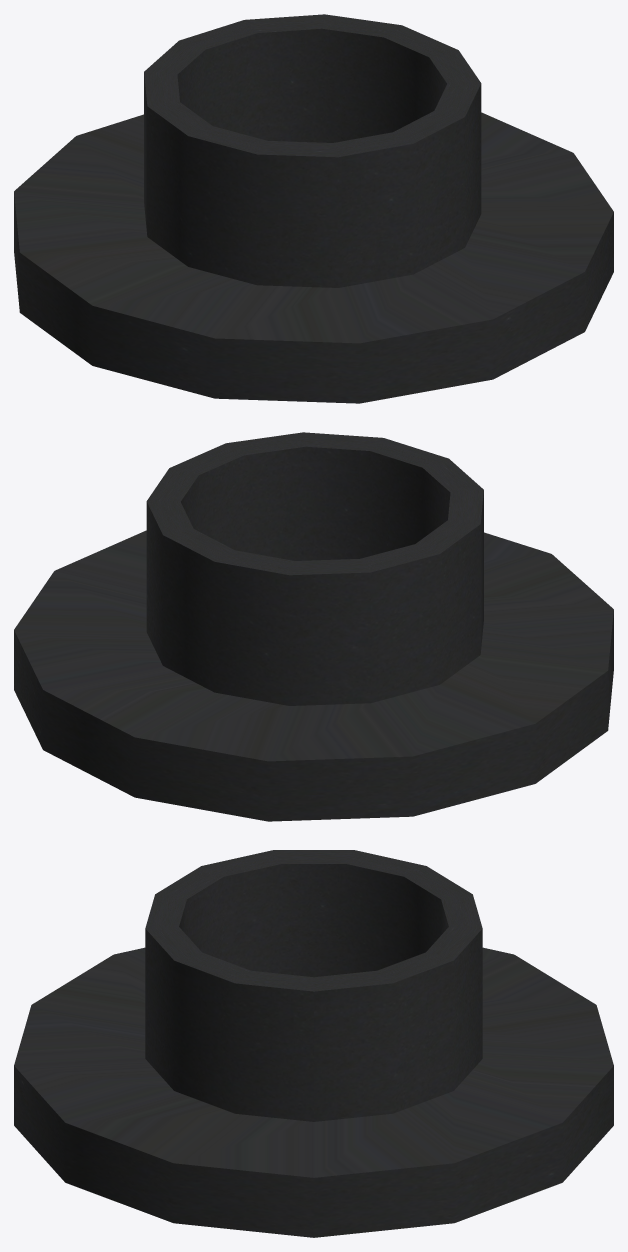
Rendered from Knob.dae.
3 views of the same model, one above another, from view 1: azimuth 30°, elevation 25°; view 2: azimuth 150°, elevation 25°; view 3: azimuth 270°, elevation 25° (orthographic).
Visible parts, largest first — view 1: Knob; view 2: Knob; view 3: Knob.
Boxes of the visible parts, left/top/right/bottom form: Knob: left=14, top=14, right=613, bottom=403; Knob: left=14, top=432, right=613, bottom=821; Knob: left=14, top=850, right=613, bottom=1237.
Size of the model in its own units: 0.0259 by 0.0261 by 0.00912.
Materials: 1 (1 with a texture image).
